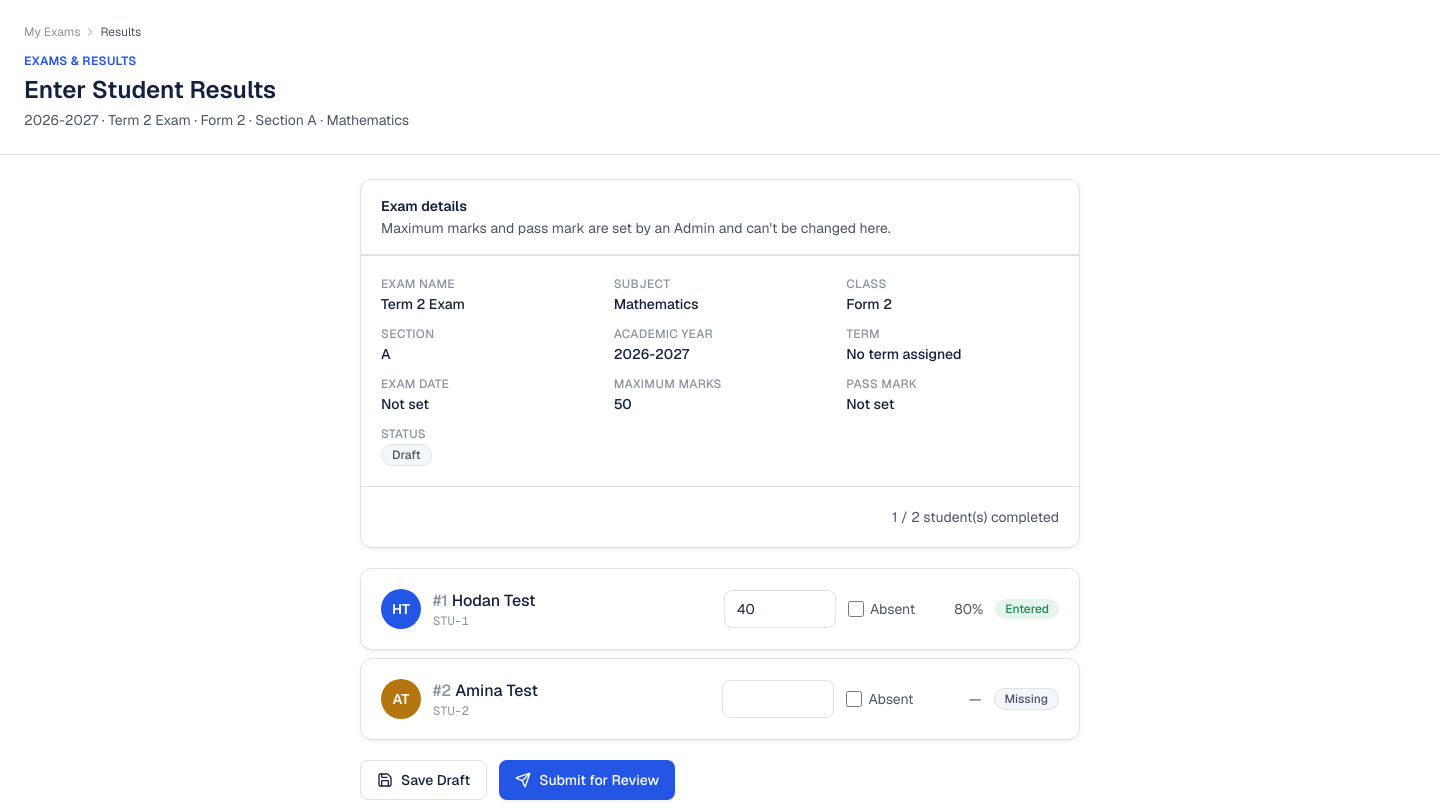
Test: Results page - mark validation is visible and enforced › a mark of 51 shows the message under that student's row and blocks Save and Submit
Expected: the text "Term 2 Exam" is shown, [381,295,465,313]
Step 1. Type "51" into the number field named "Mark for Amina Test" → (778, 699), box [722,680,834,718]
(page scrolled)
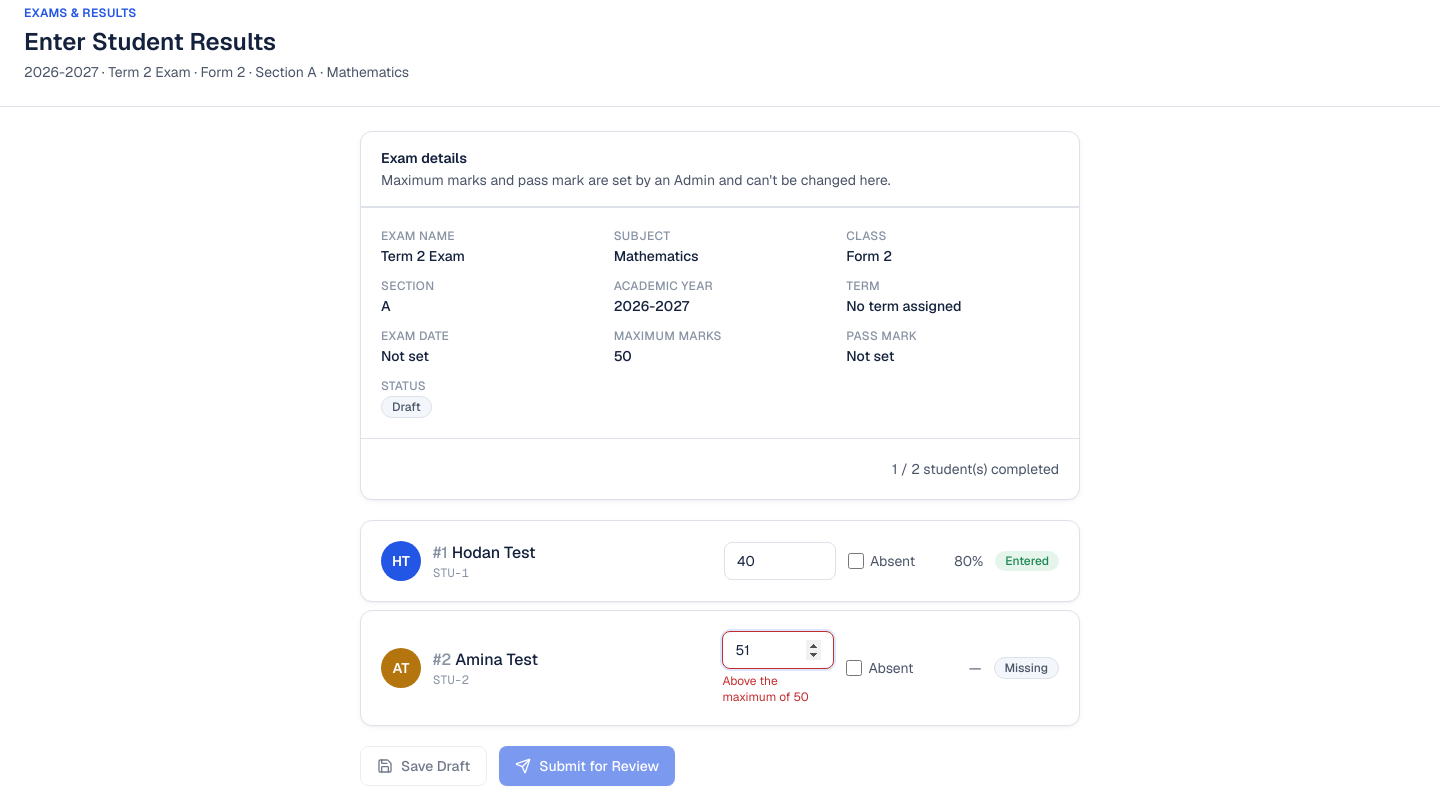
Expected: the message reads "Above the maximum of 50", [722,673,809,705]
Expected: the button "Save Draft" is disabled, [360,746,487,786]
Expected: the button "Submit for Review" is disabled, [499,746,675,786]
